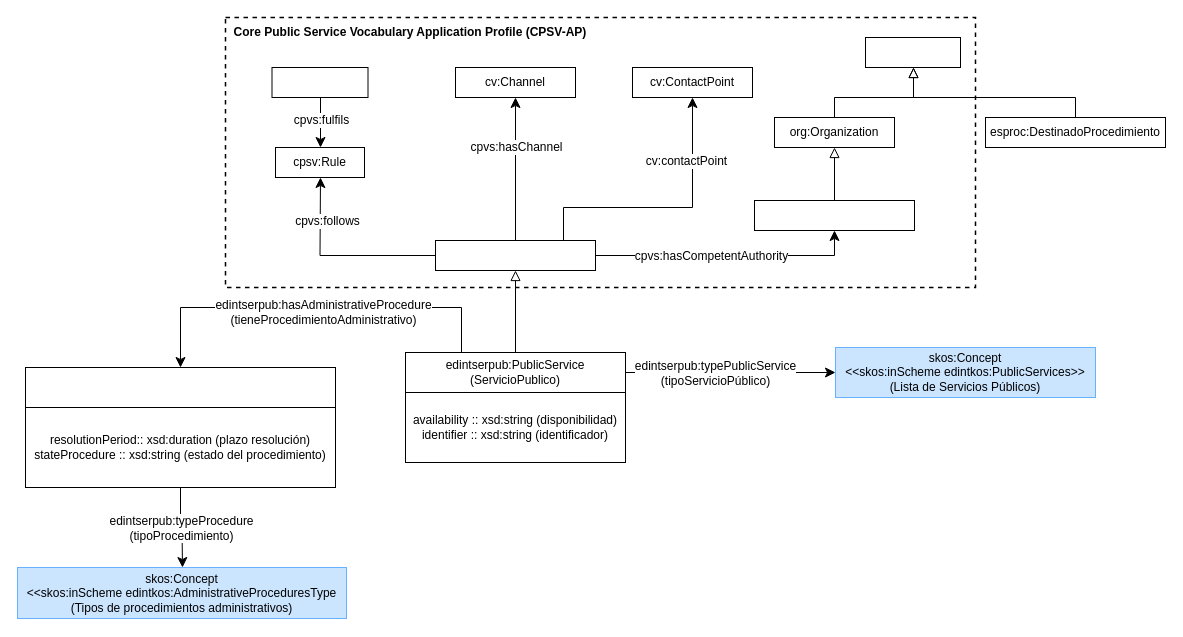
Some shapes in this 1183 by 637 pixel diagram are drawn without their labels. Here are the shapes that lost their labels. From the top down, the centre of each, then its label:
At pixel 912 52: "foaf:Agent".
At pixel 319 82: "cv:Requirement".
At pixel 834 215: "cpsv:PublicOrganization".
At pixel 515 255: "cpsv:PublicService".
At pixel 180 387: "edintserpub:AdministrativeProcedure (ProcedimientoAdministrativo)".
